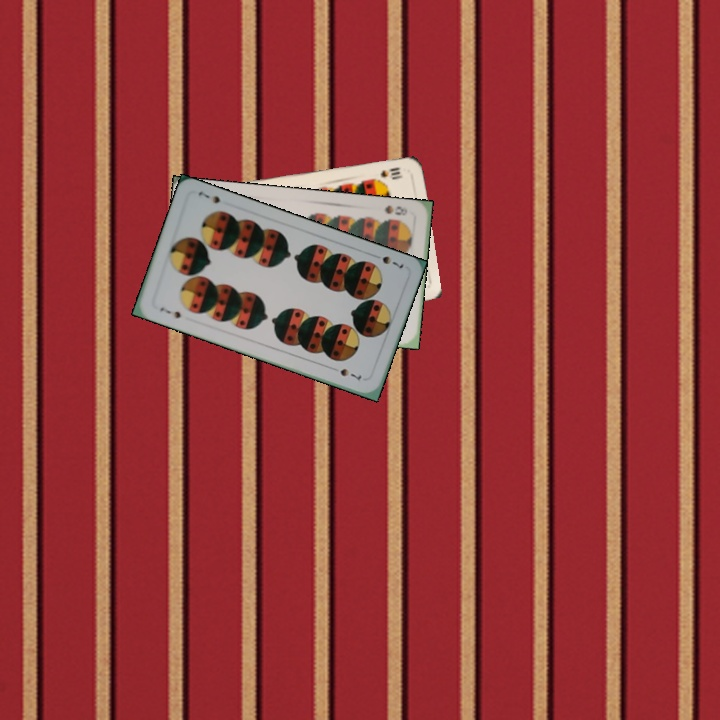S10: (376, 163, 405, 181)
S7: (378, 252, 407, 271), (156, 303, 183, 321)
S8: (381, 201, 410, 218)
